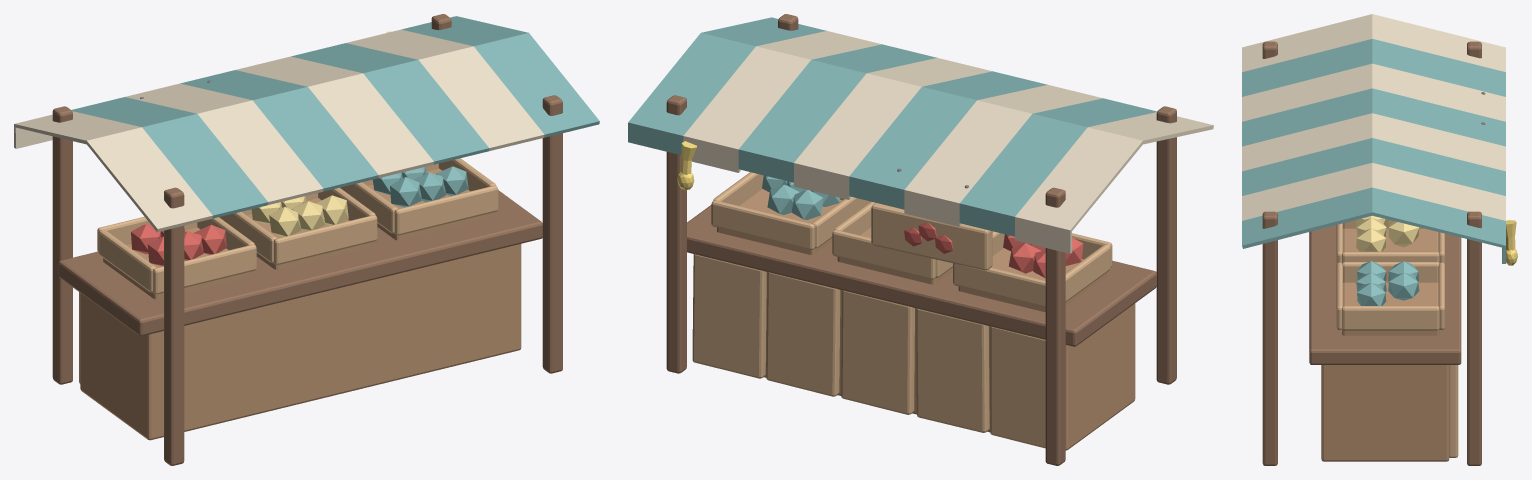
File: Kit_LM_MarketStall.fbx
The picture shows the model from 3 angles, left to right: view 1: azimuth 30°, elevation 25°; view 2: azimuth 150°, elevation 25°; view 3: azimuth 270°, elevation 25°; orthographic projection. The views are drawn at different scales.
Parts seen in each view (by area): view 1: Kit_LM_MarketStall; view 2: Kit_LM_MarketStall; view 3: Kit_LM_MarketStall.
Part boxes in pixels (<box>): Kit_LM_MarketStall: <box>14,14,599,465</box>; Kit_LM_MarketStall: <box>628,14,1213,465</box>; Kit_LM_MarketStall: <box>1242,14,1517,465</box>.
Bounding box in the file's own units: 4.32 × 2.7 × 2.54.
